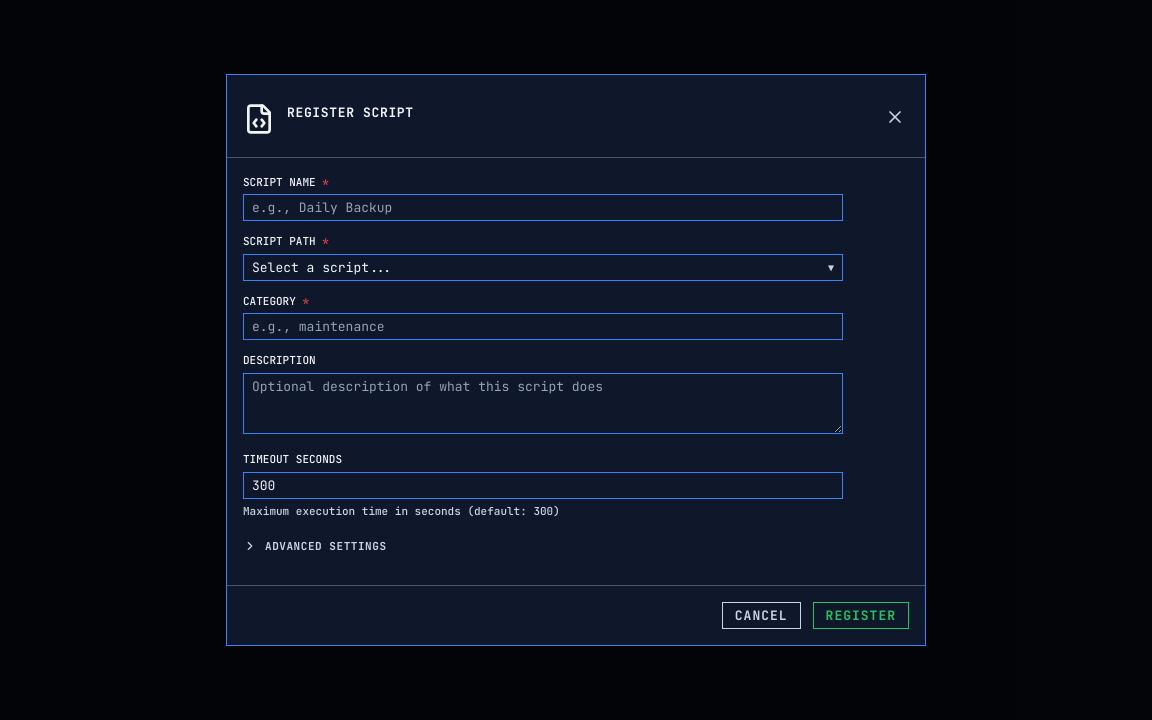
Test: RegisterScriptModal › Script Type Detection › should auto-detect go_binary script type
The image size is (1152, 720).
Expected: the text "SCRIPT PATH *" is shown, 243,234 -> 329,248
Click the button with class "custom-dropdown-toggle" at (322, 267), box 243,254 -> 843,280
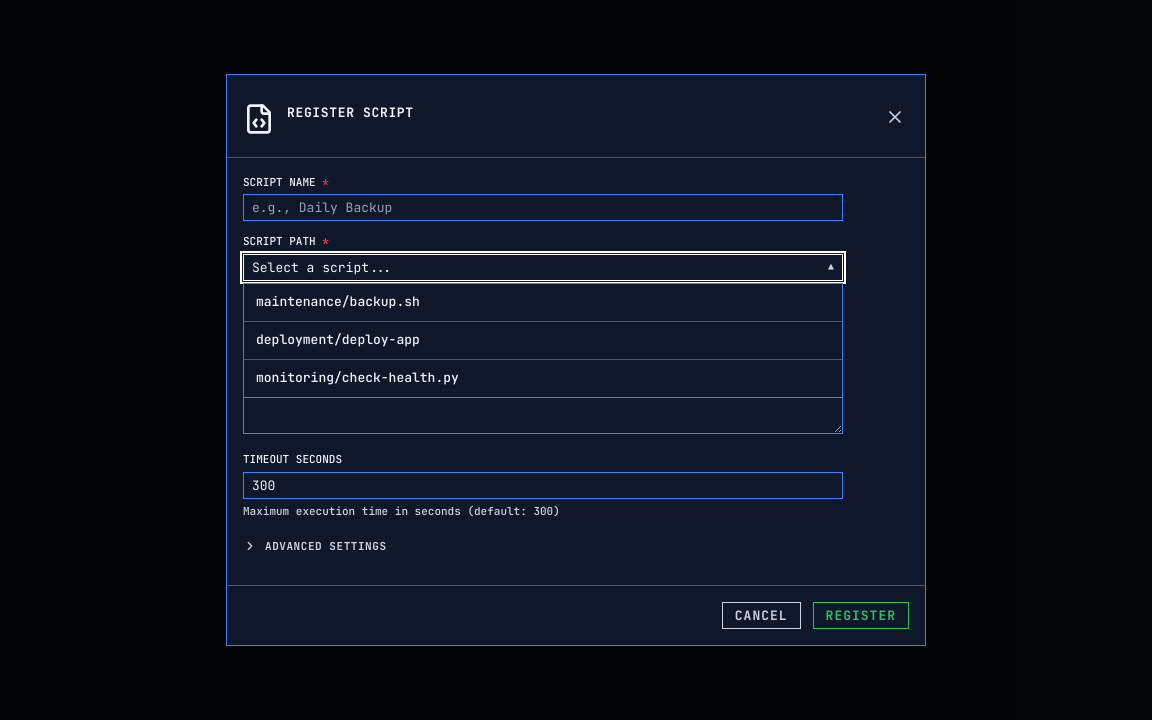
Click the text "deployment/deploy-app" at (338, 340), box 256,330 -> 420,350
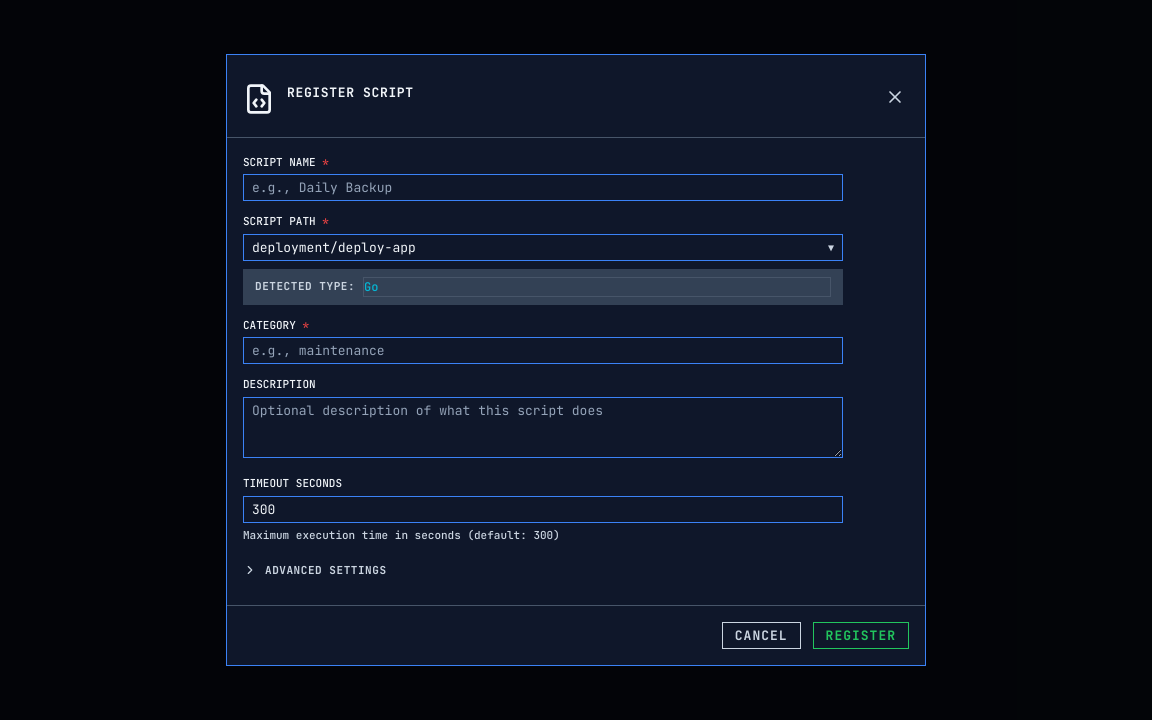
Expected: the text "Go" is shown, 363,276 -> 831,296
